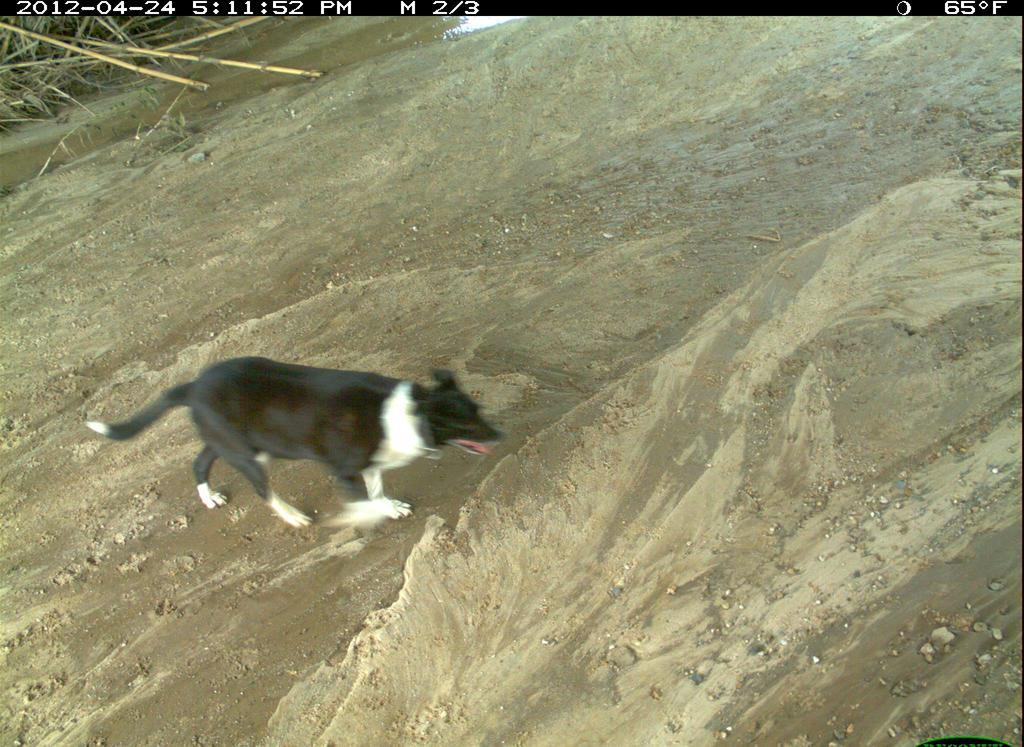dog: (155, 702, 1022, 747)
